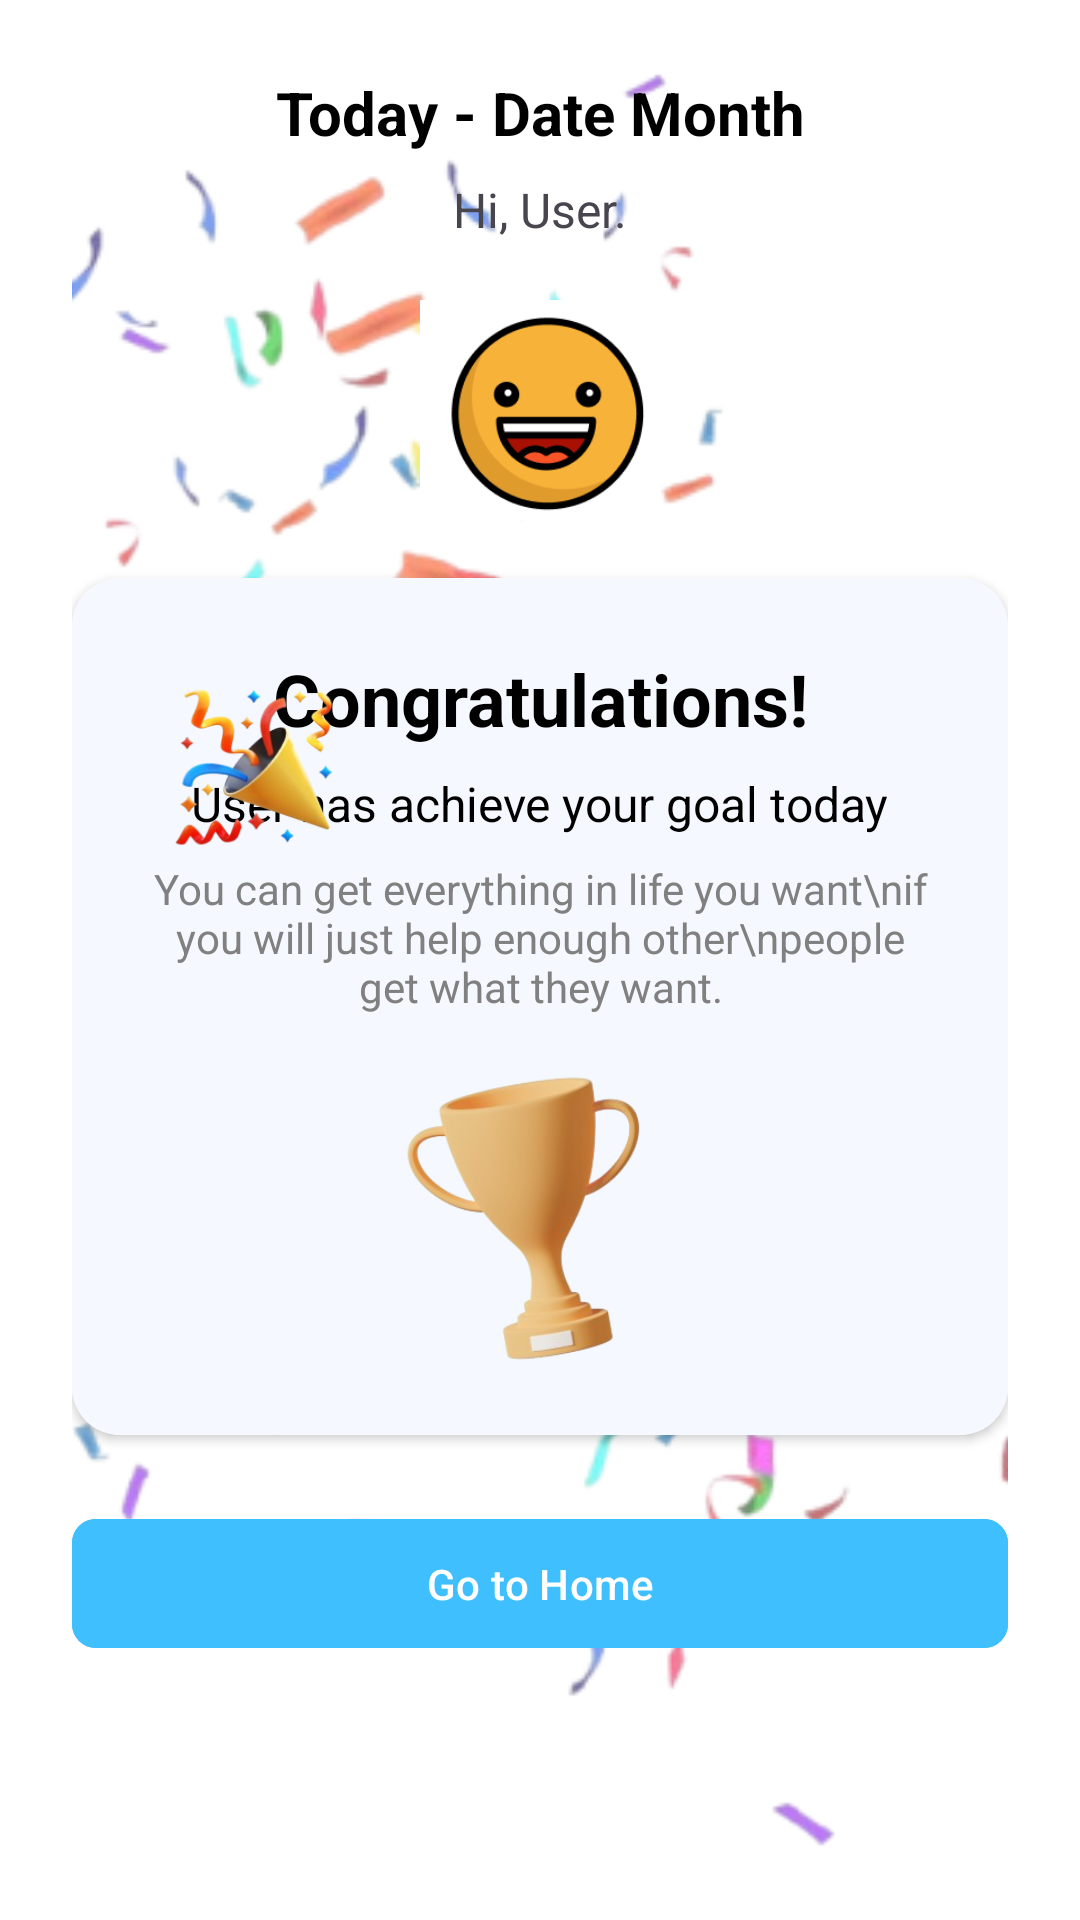

Icon bounding boxes for this 1080×1920 phone screenshot, format [x1,y1,x2,y2]:
happy emoji: [451,291,644,510]
piala: [407,1077,640,1359]
